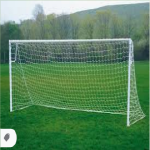goals: (8, 37, 145, 127)
